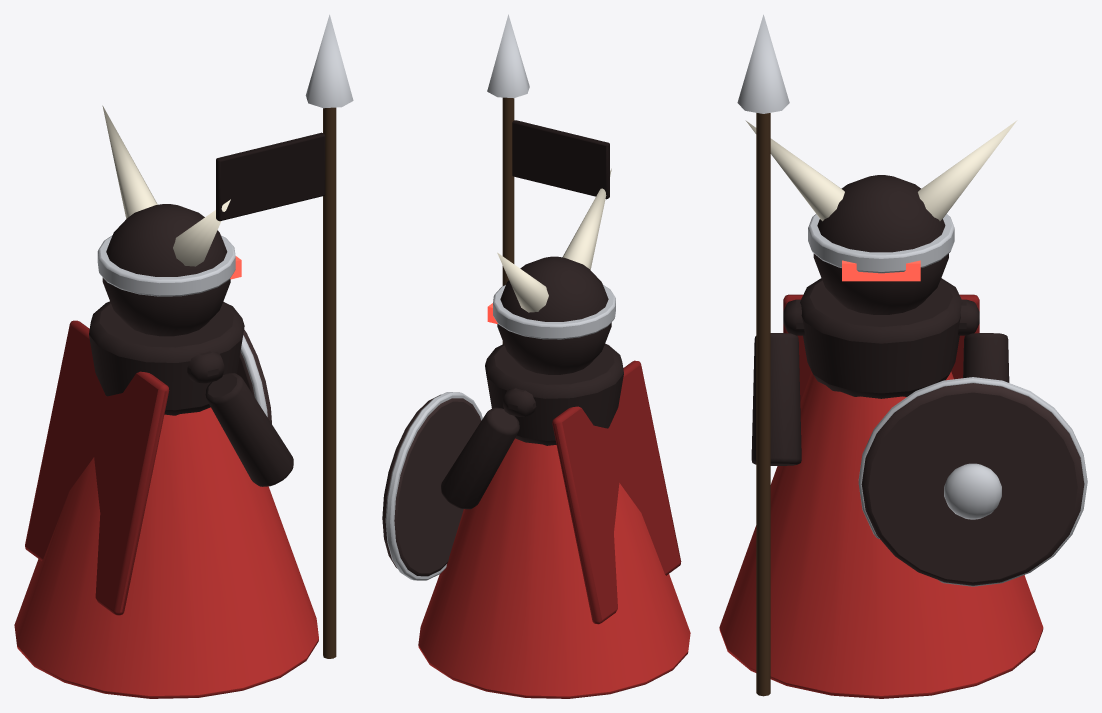
Rendered from unit-attack.glb.
3 views of the same model, side by side, from view 1: azimuth 30°, elevation 25°; view 2: azimuth 150°, elevation 25°; view 3: azimuth 270°, elevation 25° (orthographic). The views are drawn at different scales.
Parts seen in each view (by area): view 1: unit-attack; view 2: unit-attack; view 3: unit-attack.
Boxes of the visible parts, bbox=[...] form: unit-attack: bbox=[14, 14, 353, 698]; unit-attack: bbox=[382, 14, 690, 698]; unit-attack: bbox=[719, 14, 1087, 698].
Size of the model in its own units: 0.495 by 1.17 by 0.5625.
